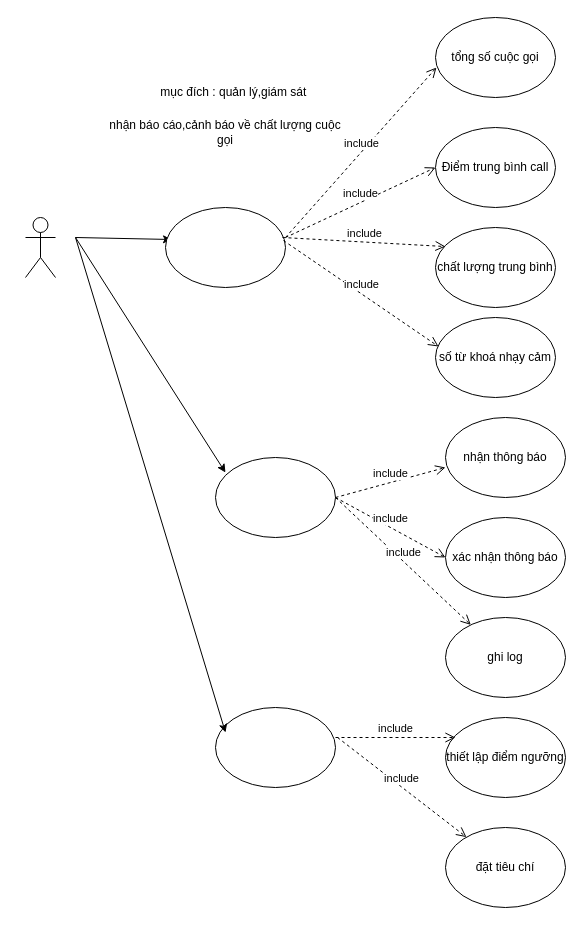
Some shapes in this 583 by 925 pixel diagram are drawn without their labels. Each missing label, with the box of its shape:
cấu hình quy tắc chấm điểm: (214, 706, 336, 788)
manager: (24, 216, 56, 278)
nhận cảnh báo: (214, 456, 336, 538)
Xem báo cáo chât lượng cuộc gọi: (164, 206, 286, 288)
